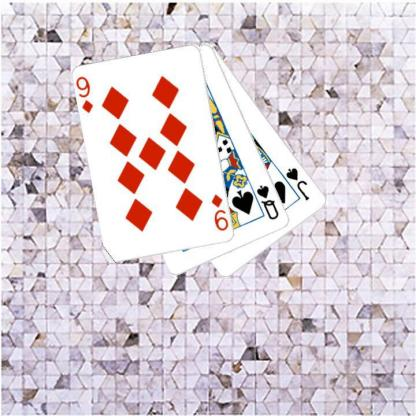9D: (209, 192, 230, 232), (74, 74, 94, 114)
JS: (283, 164, 311, 202)
QS: (254, 182, 280, 221)
